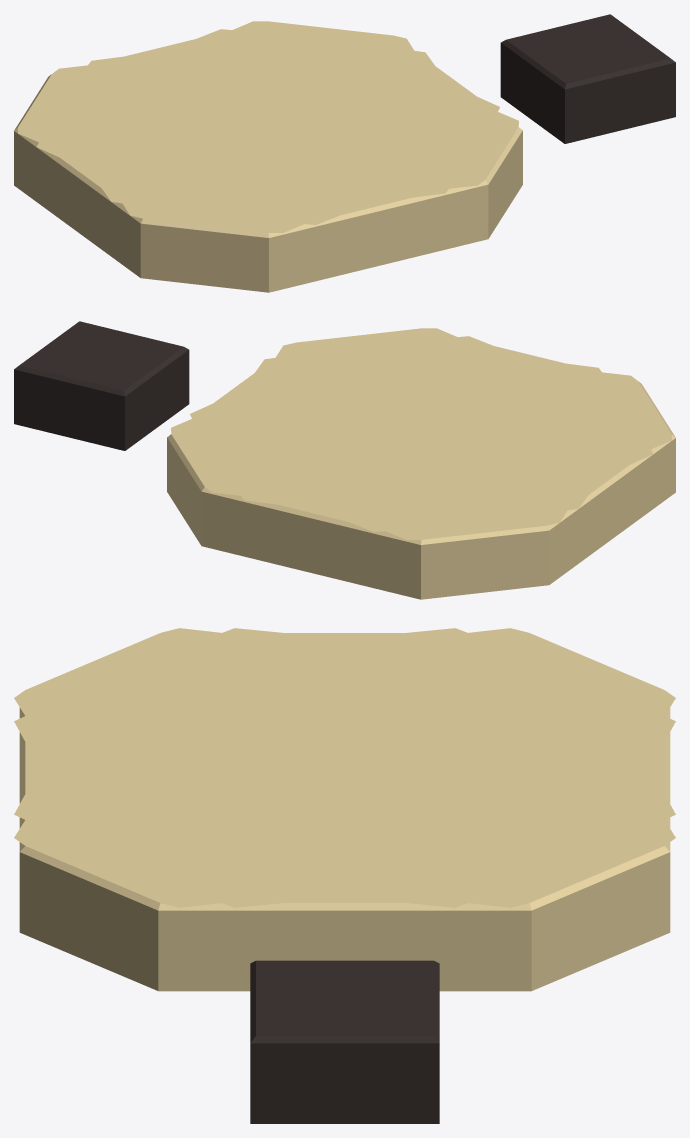
Rendered from mahsulot.glb.
3 views of the same model, one above another, from view 1: azimuth 30°, elevation 25°; view 2: azimuth 150°, elevation 25°; view 3: azimuth 270°, elevation 25° (orthographic). The views are drawn at different scales.
Parts seen in each view (by area): view 1: mahsulot_A, mahsulot_B; view 2: mahsulot_A, mahsulot_B; view 3: mahsulot_A, mahsulot_B.
Part boxes in pixels (left/top/right/bottom): mahsulot_A: left=14, top=21, right=522, bottom=292; mahsulot_B: left=500, top=14, right=675, bottom=143; mahsulot_A: left=167, top=328, right=675, bottom=599; mahsulot_B: left=14, top=321, right=189, bottom=450; mahsulot_A: left=14, top=628, right=675, bottom=991; mahsulot_B: left=250, top=960, right=439, bottom=1123.
Size of the model in its own units: 0.2565 by 0.025 by 0.175.
